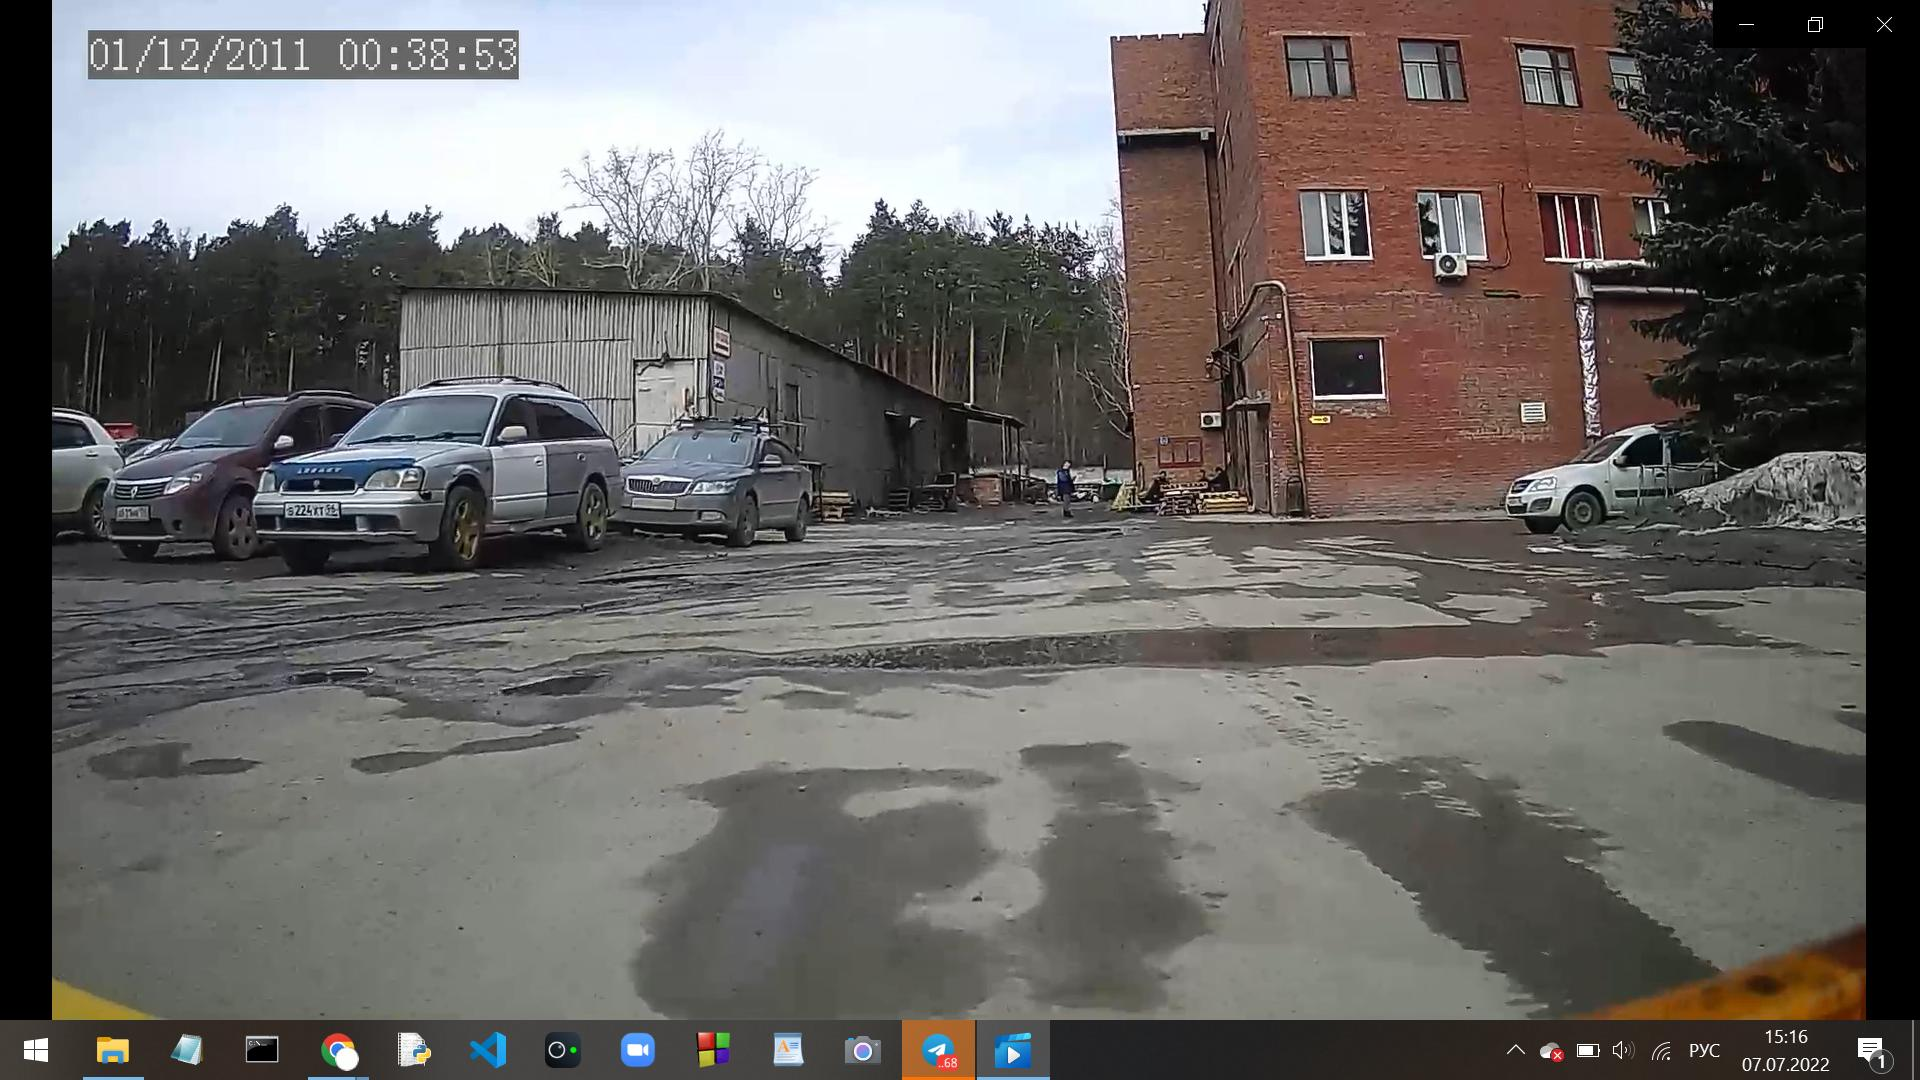plate: (632, 496, 680, 512), (115, 504, 150, 525), (286, 506, 339, 519)
